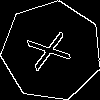X: (26, 26, 80, 72)
